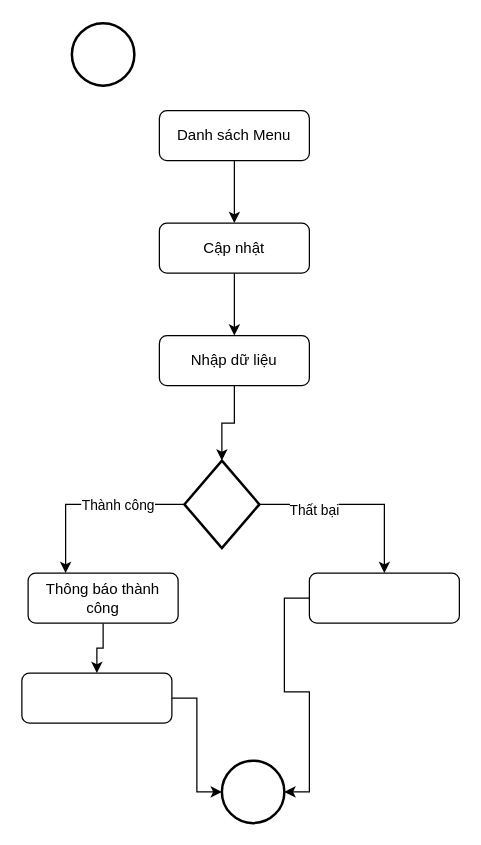
Image size: 481x845. Some labels were removed from this diagram. Here are the shapes that lost their labels. From the top down, the box of each, then its label:
(308, 572, 459, 623): Thông báo lỗi
(21, 672, 172, 723): Lấy lại danh sách Menu mới
